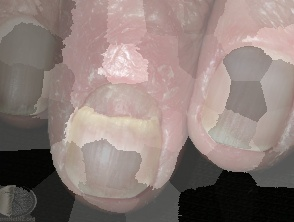Nail_psoriasis: (52, 72, 179, 211), (180, 90, 294, 172)
